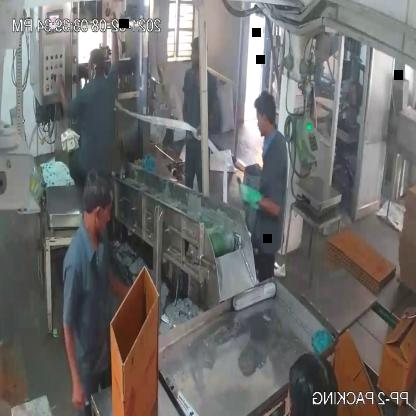glove: (234, 179, 284, 220)
no_glove: (58, 291, 91, 415)
